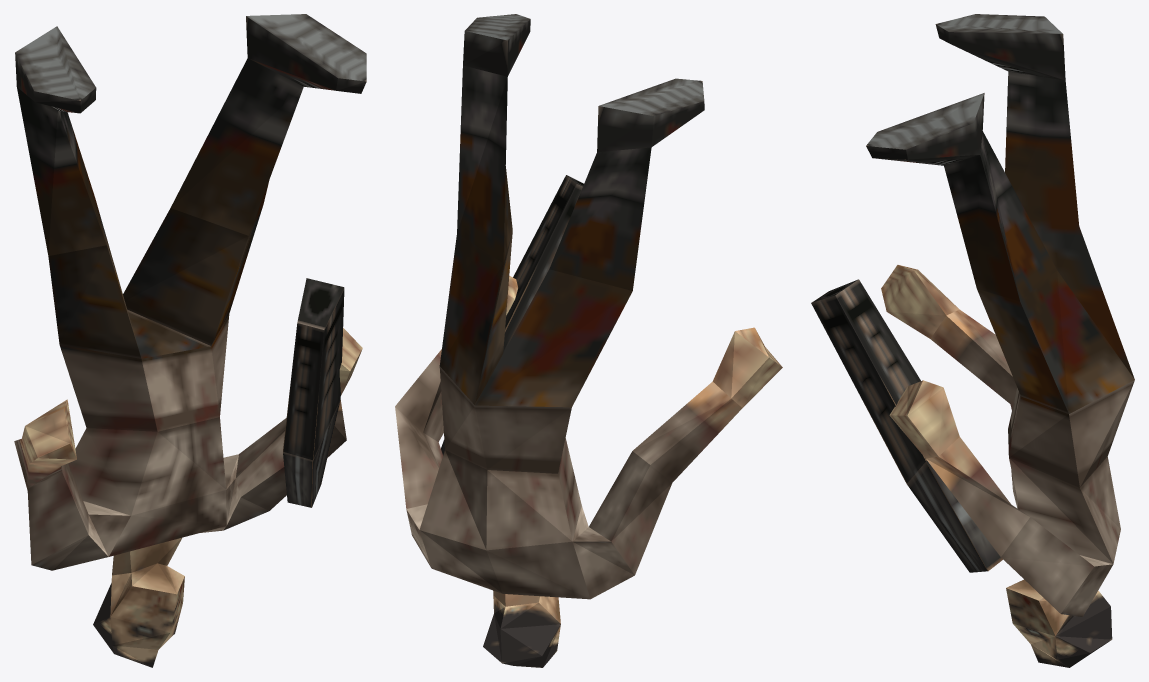
Rendered from GOON_000025.obj.
3 views of the same model, side by side, from view 1: azimuth 30°, elevation 25°; view 2: azimuth 150°, elevation 25°; view 3: azimuth 270°, elevation 25° (orthographic). The views are drawn at different scales.
Visible parts, largest first — view 1: Cube_Cube.001; view 2: Cube_Cube.001; view 3: Cube_Cube.001.
Part boxes in pixels (x1,y1,x2,y2): Cube_Cube.001: (14,14,366,667); Cube_Cube.001: (395,14,782,667); Cube_Cube.001: (811,14,1134,667).
Size of the model in its own units: 15.06 by 25.68 by 12.61.
